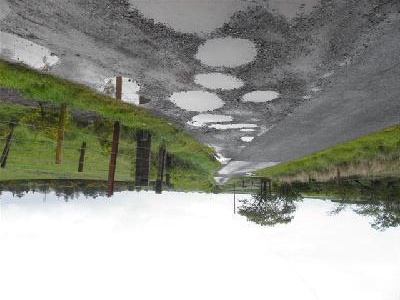pothole: (115, 1, 256, 39), (191, 37, 260, 71), (258, 0, 325, 26), (169, 90, 227, 114), (191, 71, 244, 93), (239, 88, 283, 105), (185, 113, 232, 127), (208, 122, 259, 130), (239, 134, 255, 143)
